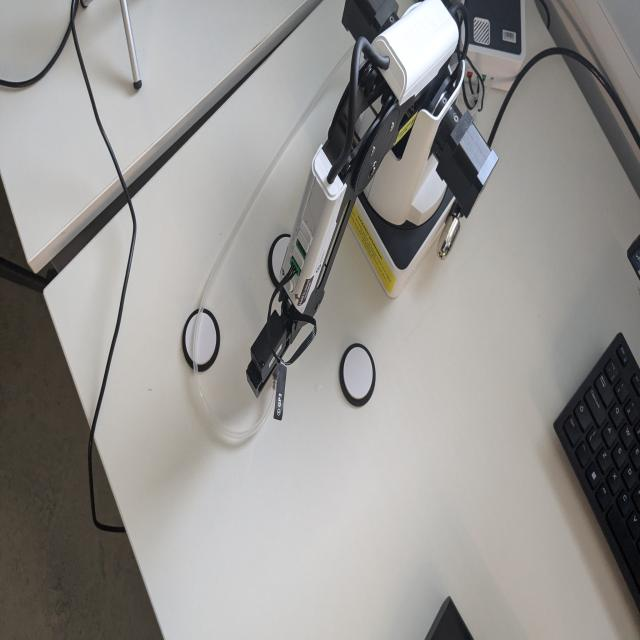Robot-end-effector-HF8z: (241, 303, 290, 405)
